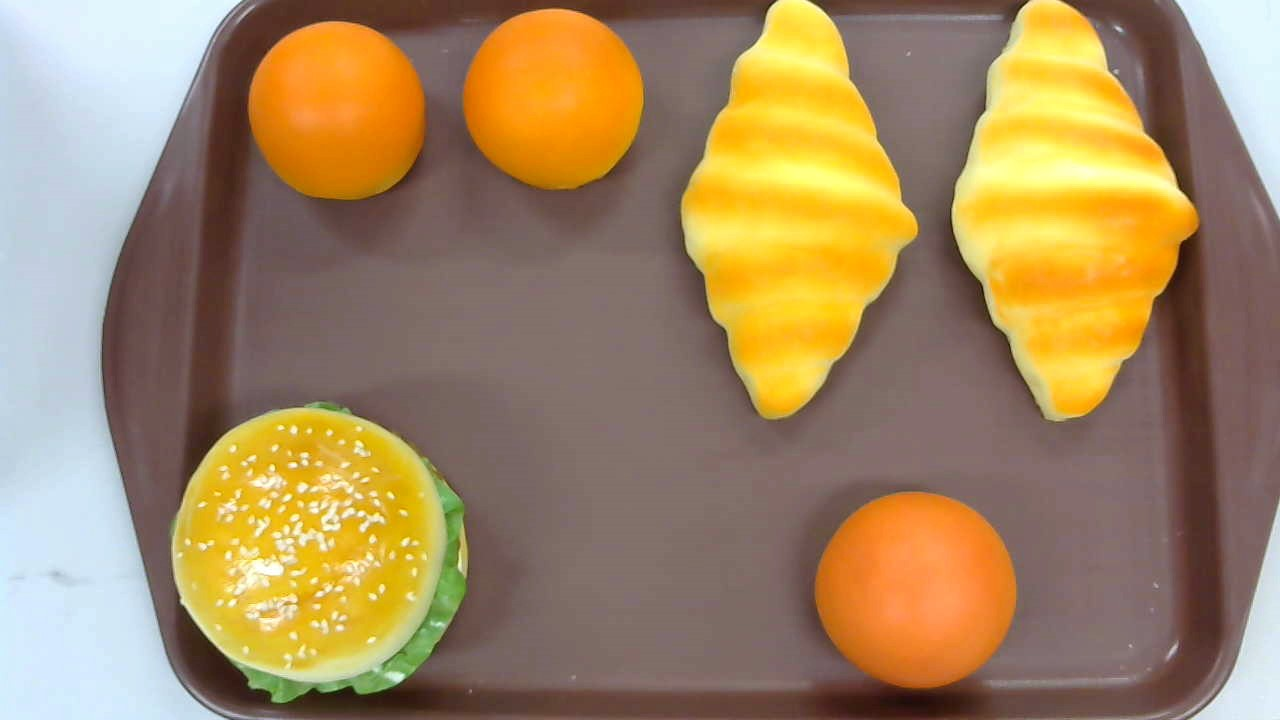bun: (813, 491, 1017, 691), (463, 8, 645, 191), (247, 21, 427, 199)
croissant: (947, 1, 1199, 423), (680, 1, 920, 420)
hamburger: (169, 400, 470, 702)
